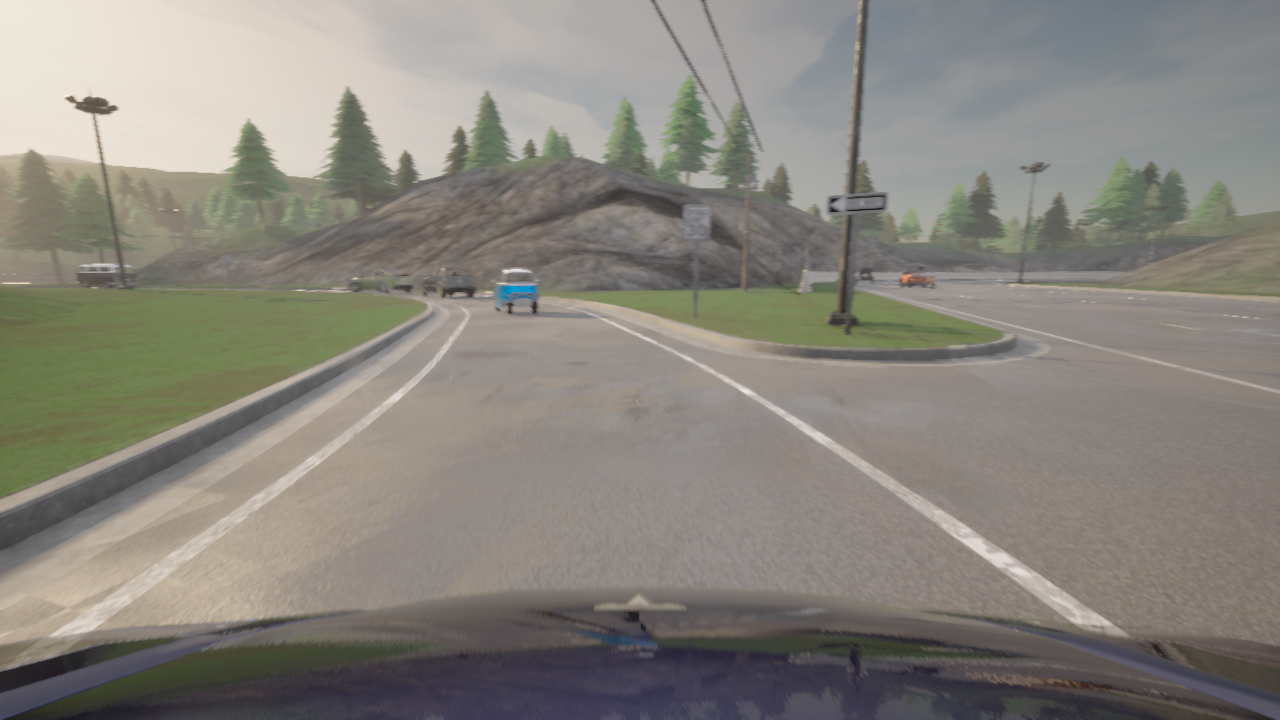cyclist: (0, 588, 1279, 719), (492, 268, 538, 314), (418, 265, 475, 298), (349, 268, 413, 293), (76, 263, 139, 287), (900, 266, 935, 286), (855, 267, 874, 284)
